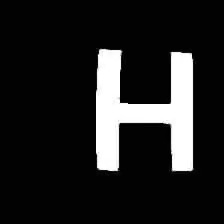LTR_H: (85, 34, 198, 183)
